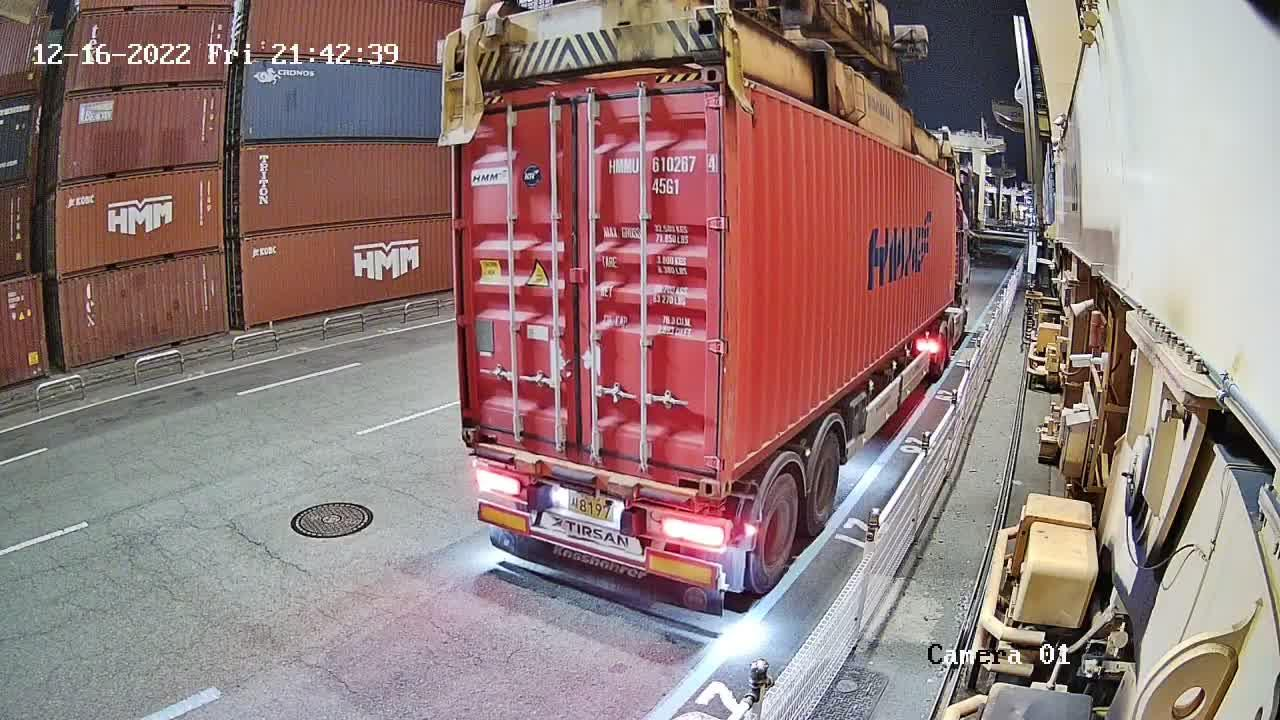Chassis: (467, 448, 723, 517)
Container: (462, 411, 723, 502)
Hole_L: (460, 413, 498, 448), (723, 447, 745, 501)
Hole_R: (687, 451, 721, 499)
Tire: (744, 476, 797, 596), (805, 434, 843, 535)
